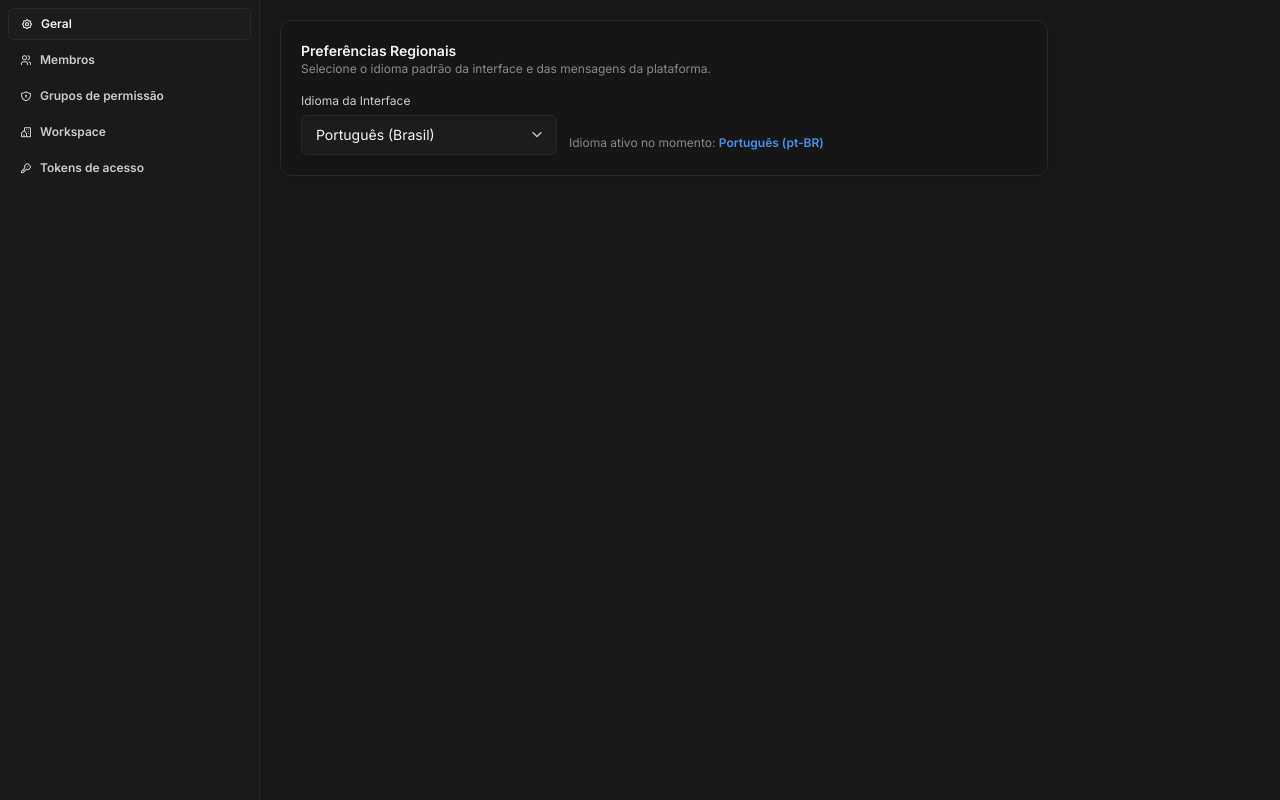
it: SettingsView members › shows the server message when member permissions cannot be saved
The width and height of the screenshot is (1280, 800).
Click the button with test id "settings-section-members" at (130, 60), box [8,44,251,76]
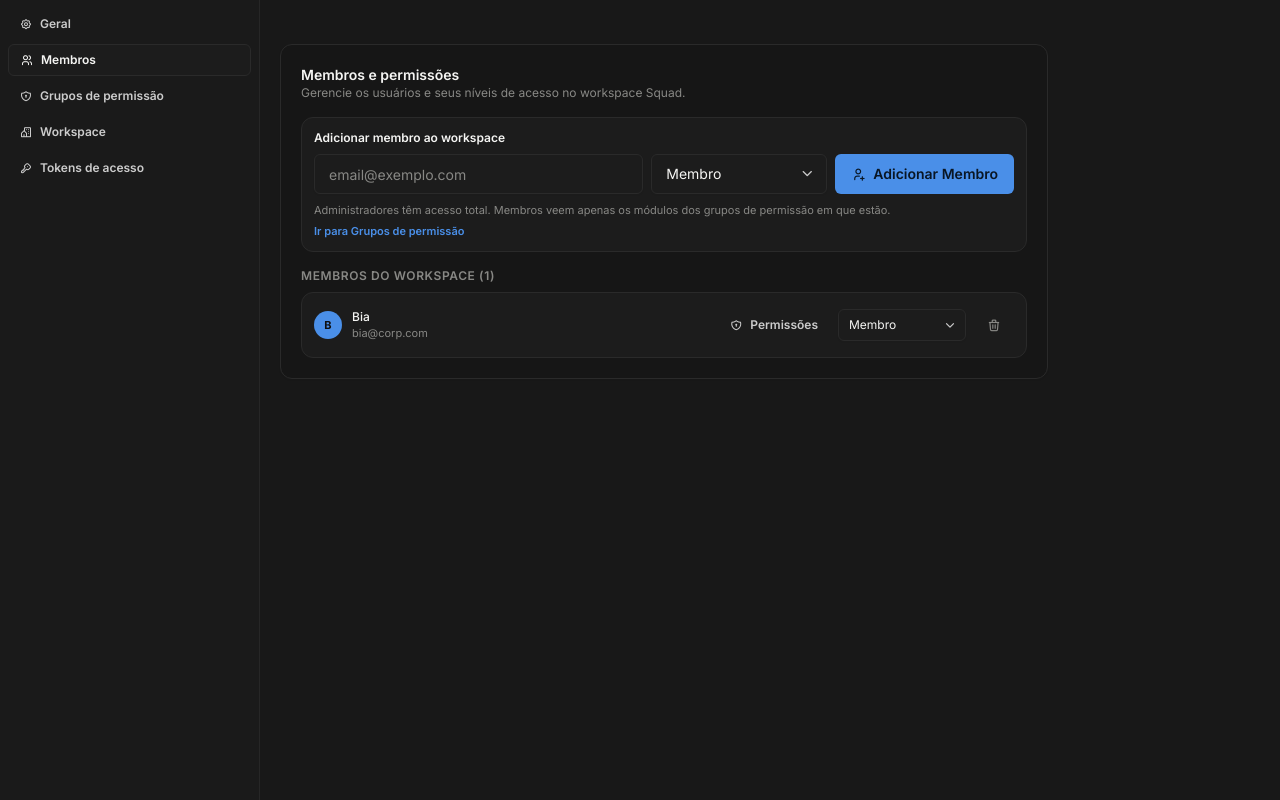
Click the button with aria-label "Permissões Bia" at (774, 325), box [718,309,830,341]
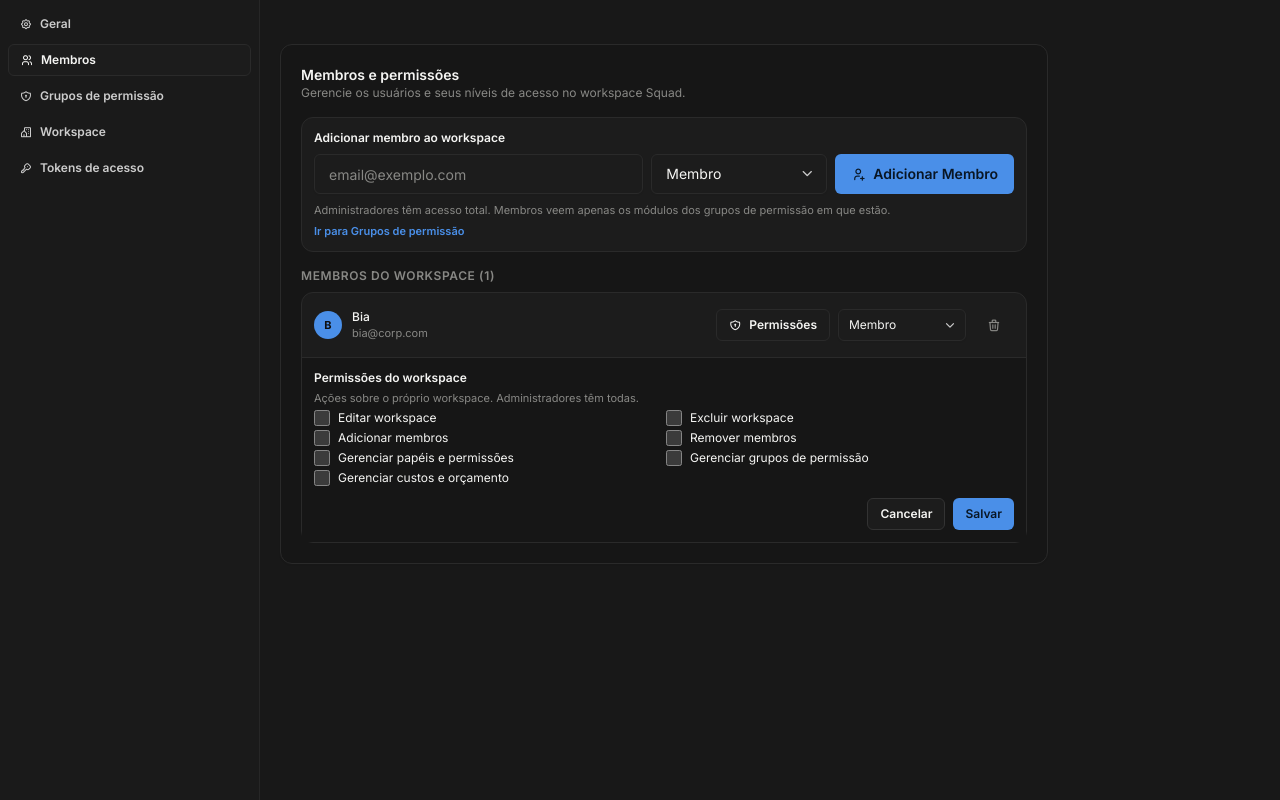
Click the button "Salvar" at (984, 514), box [954,498,1014,530]
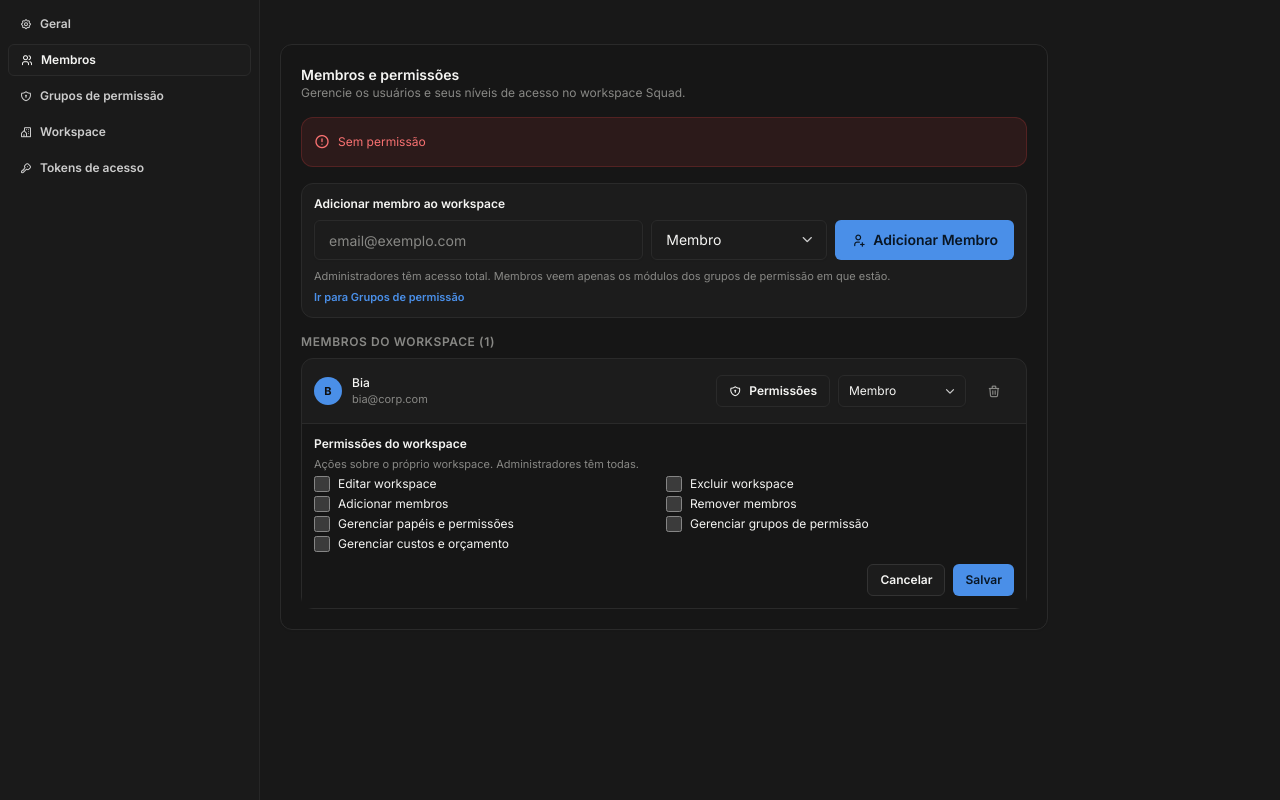
Expected: the text "Sem permissão" is shown, [338,134,426,150]
